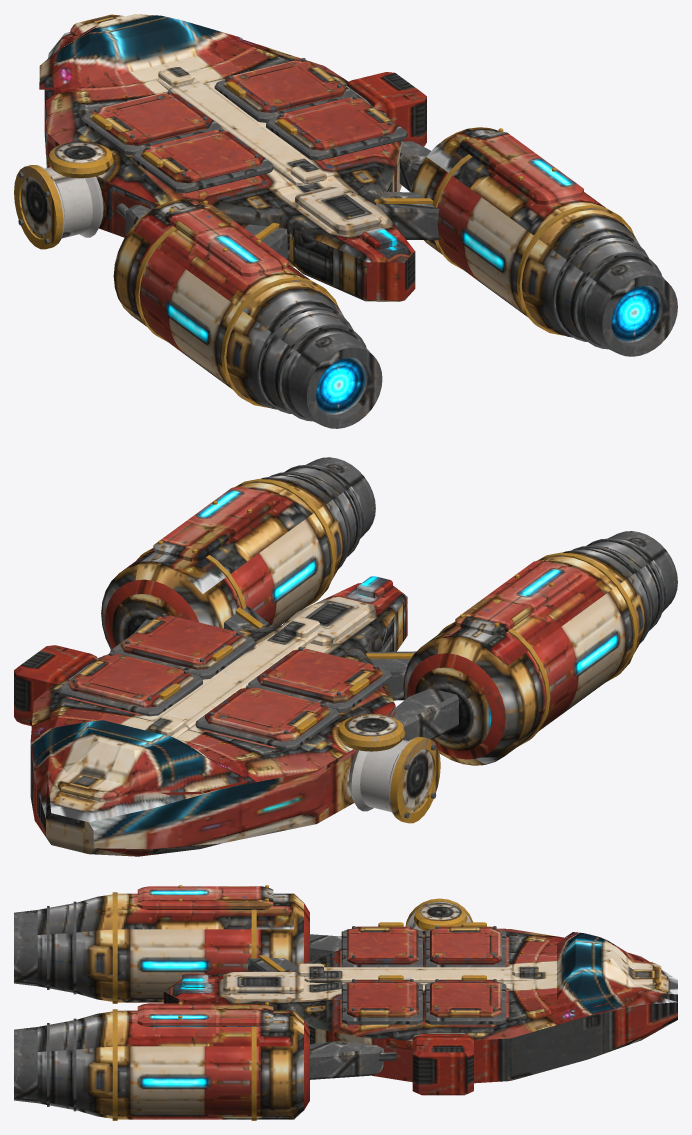
File: small-fortune.glb
3 renders of one model, top to bottom at view 1: azimuth 30°, elevation 25°; view 2: azimuth 150°, elevation 25°; view 3: azimuth 270°, elevation 25°, orthographic. The views are drawn at different scales.
Parts seen in each view (by area): view 1: hull / Small Fortune / painted hull and fittings, hull / Ventral / Small Fortune; view 2: hull / Small Fortune / painted hull and fittings, hull / Ventral / Small Fortune; view 3: hull / Small Fortune / painted hull and fittings, hull / Ventral / Small Fortune.
Part boxes in pixels (x1,y1,x2,y2): hull / Small Fortune / painted hull and fittings: [14, 14, 677, 428]; hull / Ventral / Small Fortune: [58, 83, 601, 418]; hull / Small Fortune / painted hull and fittings: [14, 457, 677, 856]; hull / Ventral / Small Fortune: [18, 507, 622, 856]; hull / Small Fortune / painted hull and fittings: [14, 885, 677, 1120]; hull / Ventral / Small Fortune: [37, 909, 676, 1119].
Size of the model in its own units: 11.68 by 3.53 by 19.95.
2 materials, 2 textured.
